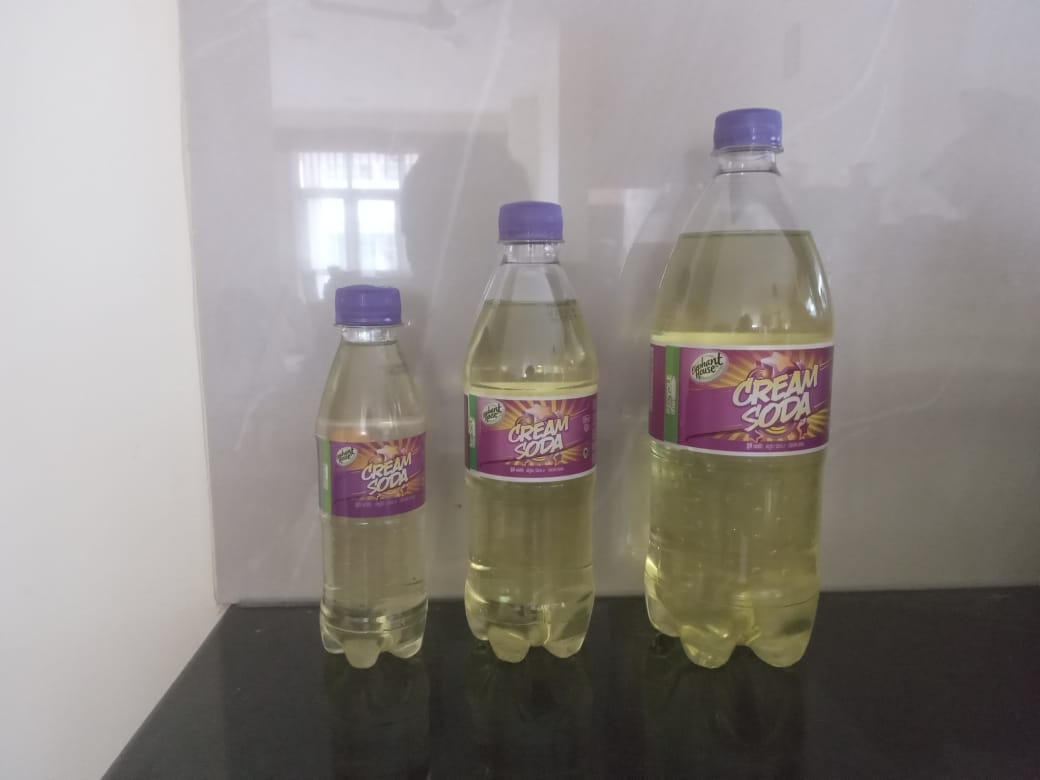M: (640, 104, 847, 680)
S: (456, 194, 604, 678)
Xs: (306, 282, 438, 677)
